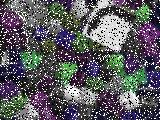Left: (81, 0, 138, 53)
